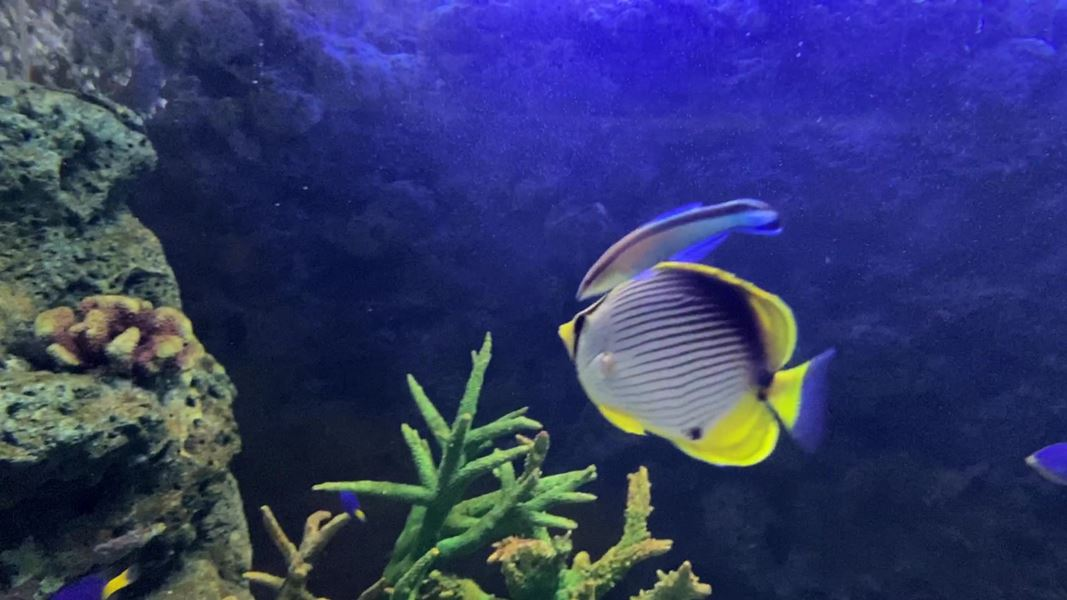Bluesteak cleaner wrasse: (569, 179, 790, 321)
